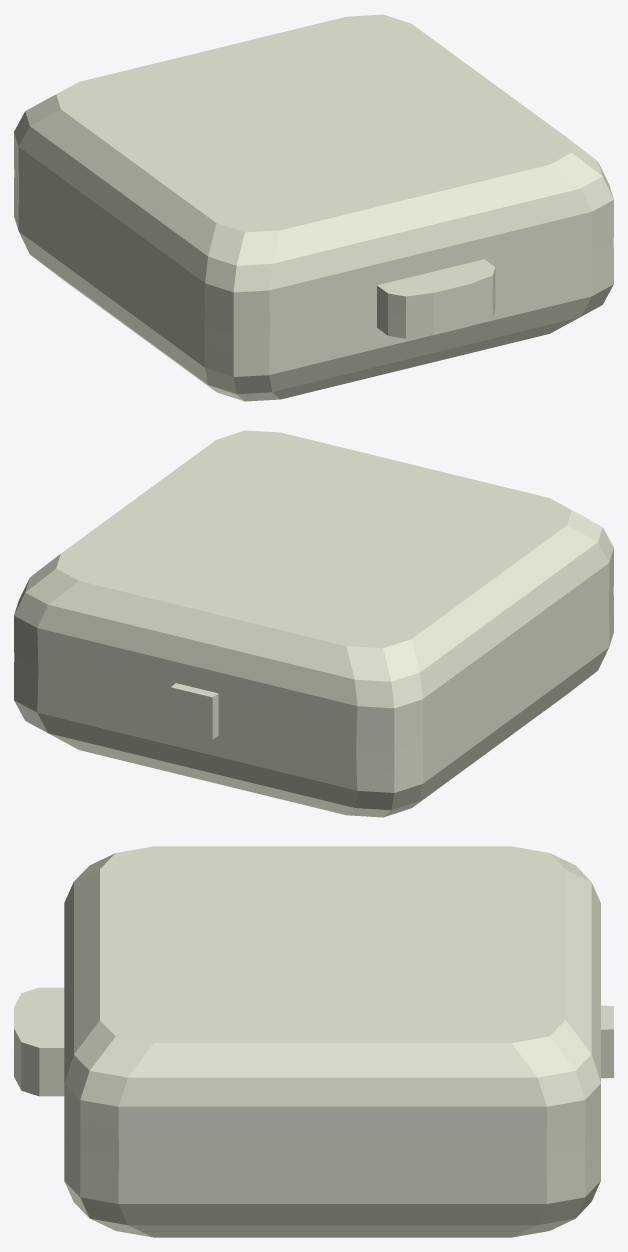
File: lunch box plate.fbx
The picture shows the model from 3 angles, top to bottom: view 1: azimuth 30°, elevation 25°; view 2: azimuth 150°, elevation 25°; view 3: azimuth 270°, elevation 25°; orthographic projection. The views are drawn at different scales.
Parts seen in each view (by area): view 1: tapa lunch box, lunch box; view 2: tapa lunch box, lunch box; view 3: tapa lunch box, lunch box.
Boxes of the visible parts, bbox=[...] form: tapa lunch box: bbox=[14, 14, 613, 334]; lunch box: bbox=[14, 175, 613, 401]; tapa lunch box: bbox=[14, 430, 613, 750]; lunch box: bbox=[14, 591, 613, 817]; tapa lunch box: bbox=[14, 846, 613, 1155]; lunch box: bbox=[14, 1053, 613, 1237].
Size of the model in its own units: 15 by 6 by 16.77.
